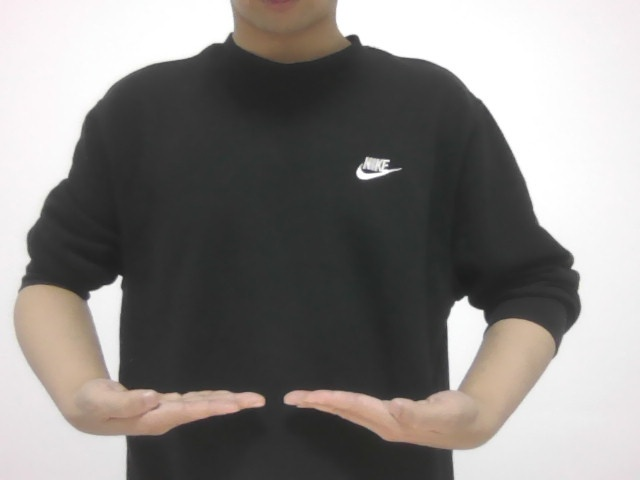today: (66, 340, 500, 462)
